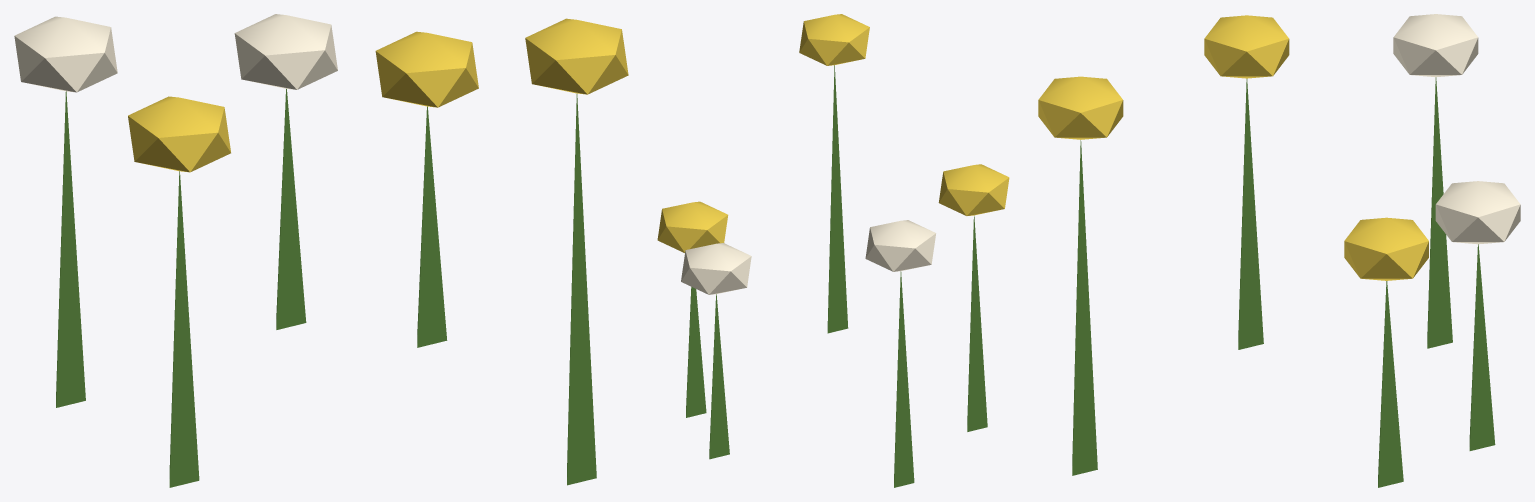
Rendered from flowers.glb.
The picture shows the model from 3 angles, left to right: view 1: azimuth 30°, elevation 25°; view 2: azimuth 150°, elevation 25°; view 3: azimuth 270°, elevation 25°; orthographic projection. The views are drawn at different scales.
Visible parts, largest first — view 1: flowers; view 2: flowers; view 3: flowers.
Part boxes in pixels (x1,y1,x2,y2): flowers: (14,14,628,487); flowers: (657,14,1009,487); flowers: (1038,14,1520,487).
Size of the model in its own units: 0.2938 by 0.3045 by 0.3385.
